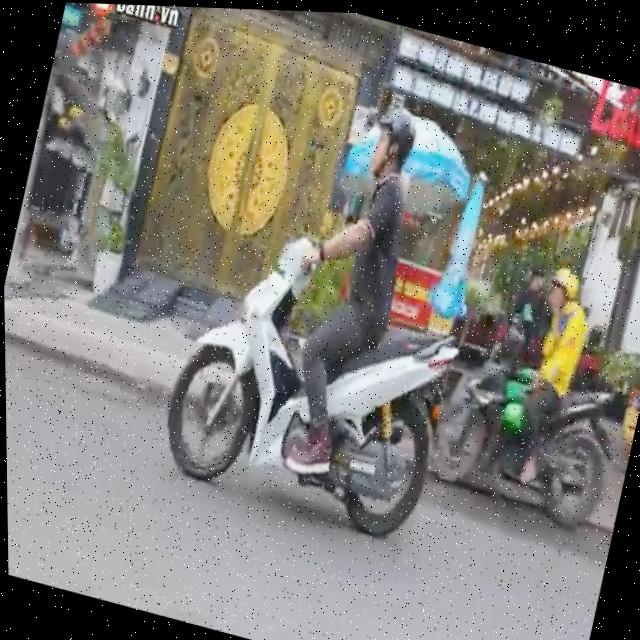motorcycle: (137, 206, 499, 570), (424, 303, 640, 542)
